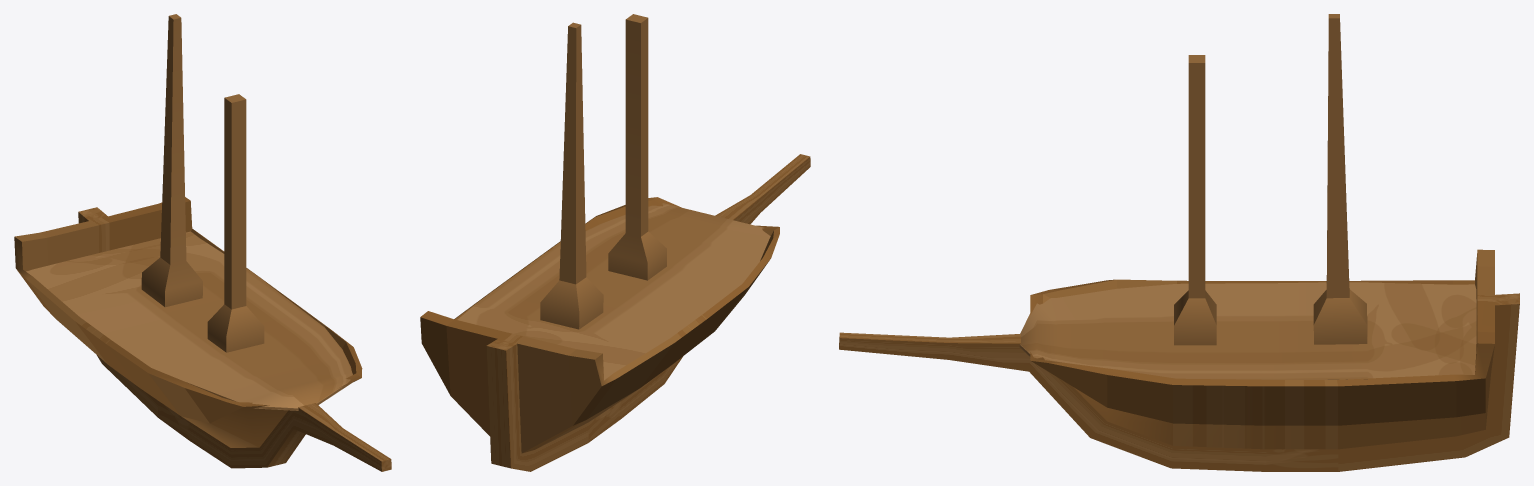
File: Boot.fbx
The picture shows the model from 3 angles, left to right: view 1: azimuth 30°, elevation 25°; view 2: azimuth 150°, elevation 25°; view 3: azimuth 270°, elevation 25°; orthographic projection. The views are drawn at different scales.
Visible parts, largest first — view 1: polySurface1; view 2: polySurface1; view 3: polySurface1.
Boxes of the visible parts, x1,y1,x2,y2 form: polySurface1: (14, 14, 391, 471); polySurface1: (420, 14, 810, 471); polySurface1: (839, 14, 1519, 471).
Bounding box in the file's own units: 9.75 × 20.06 × 27.28.
